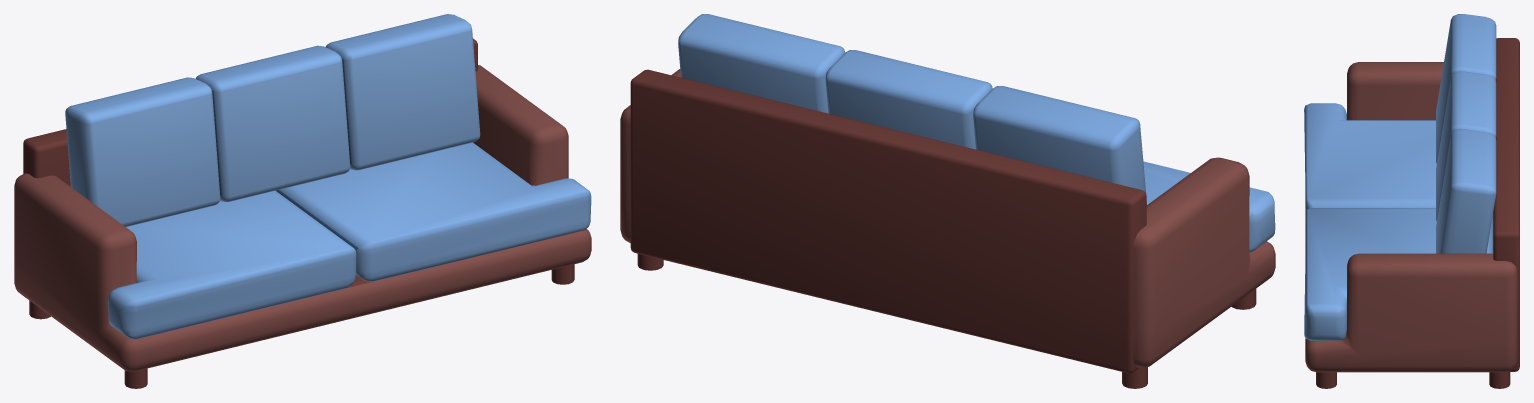
The model's file is 3d_Sofa.fbx.
3 views of the same model, side by side, from view 1: azimuth 30°, elevation 25°; view 2: azimuth 150°, elevation 25°; view 3: azimuth 270°, elevation 25° (orthographic). The views are drawn at different scales.
Parts seen in each view (by area): view 1: 3d_Sofa; view 2: 3d_Sofa; view 3: 3d_Sofa.
Boxes of the visible parts, x1,y1,x2,y2 form: 3d_Sofa: (14,14,591,388); 3d_Sofa: (620,14,1275,388); 3d_Sofa: (1304,14,1519,388).
Bounding box in the file's own units: 1.6 × 0.6859 × 0.6998.
